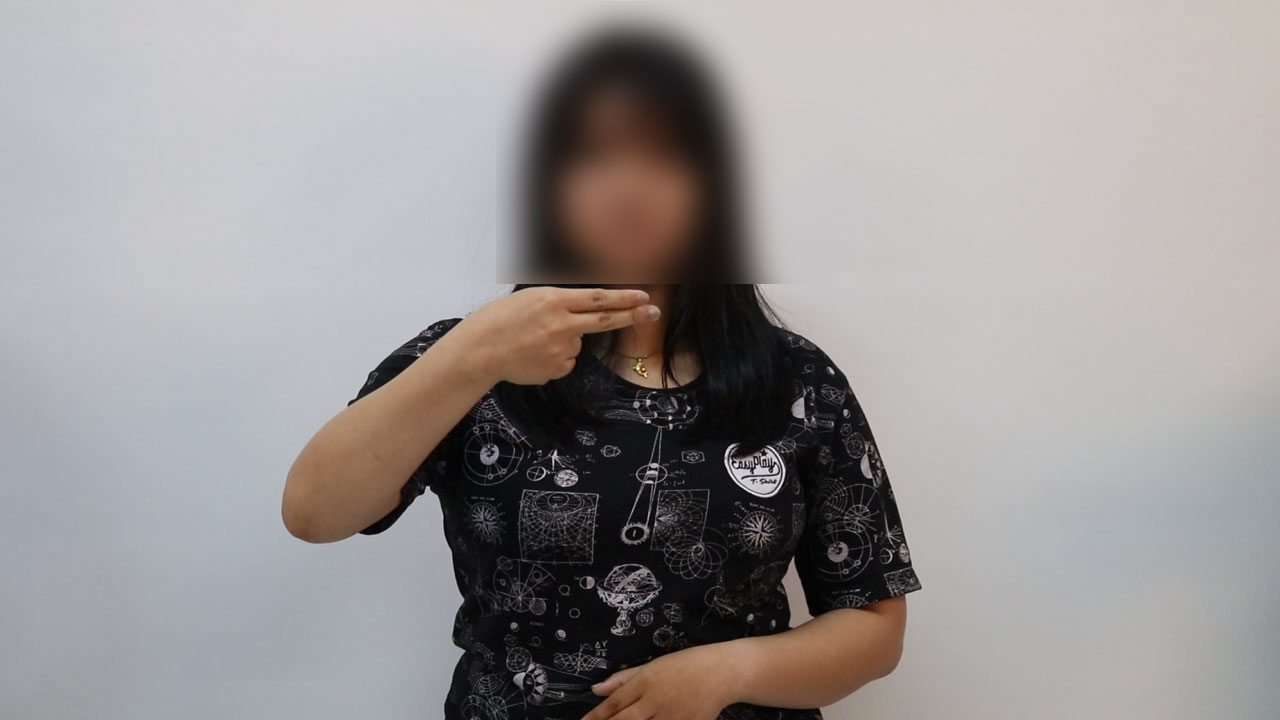hor: (459, 271, 680, 395)
